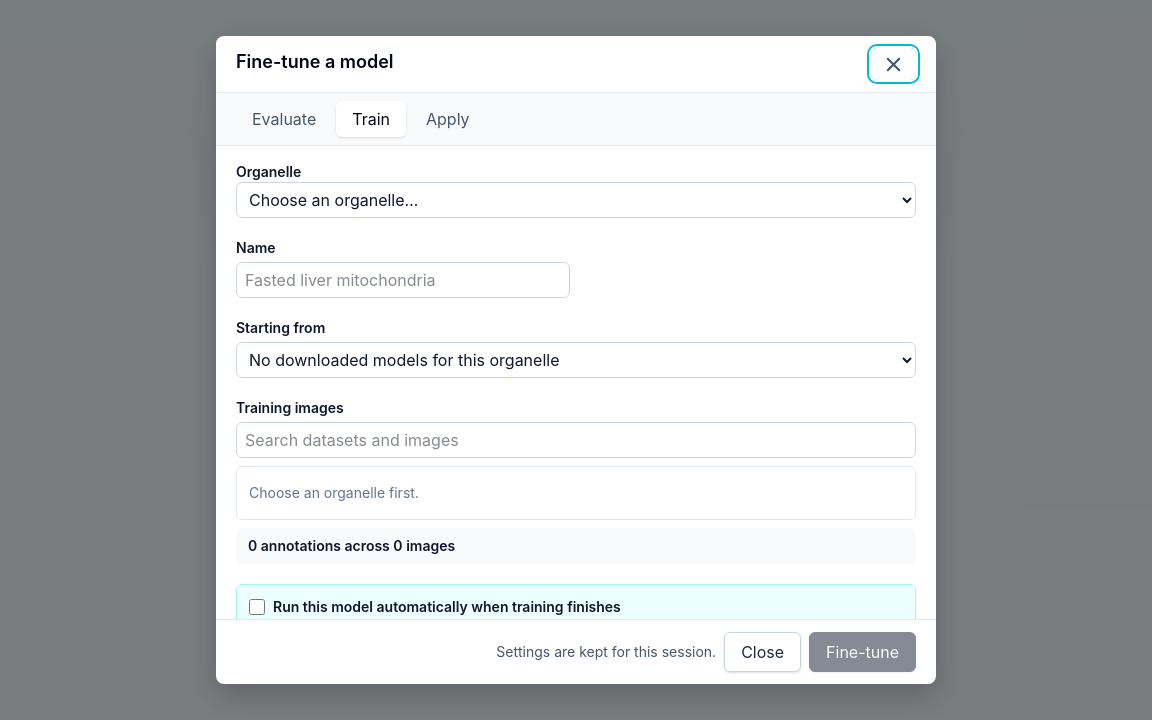
Test case: FineTuneDialog › opens from the library with the paginated organelle response
Step 1. Select "Mitochondria" in the dropdown labelled "Organelle" → [576, 200], box [236, 182, 916, 218]
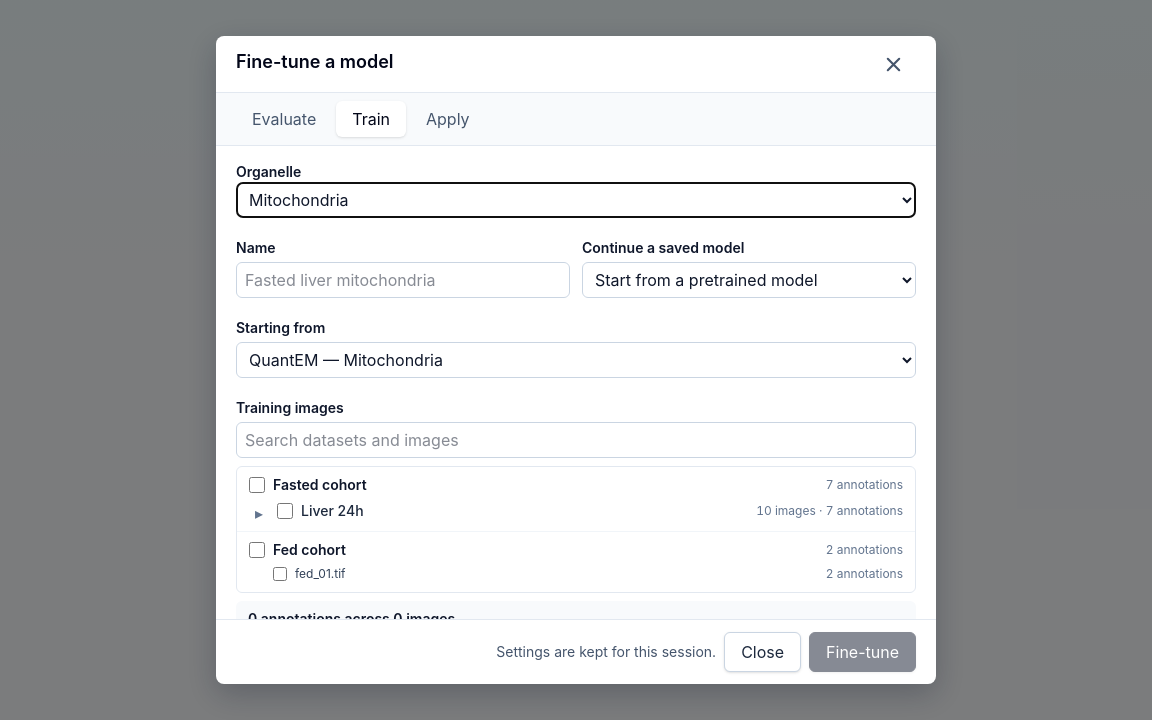
Now the element with test id "scope-tree" is shown, box [237, 467, 915, 592]
